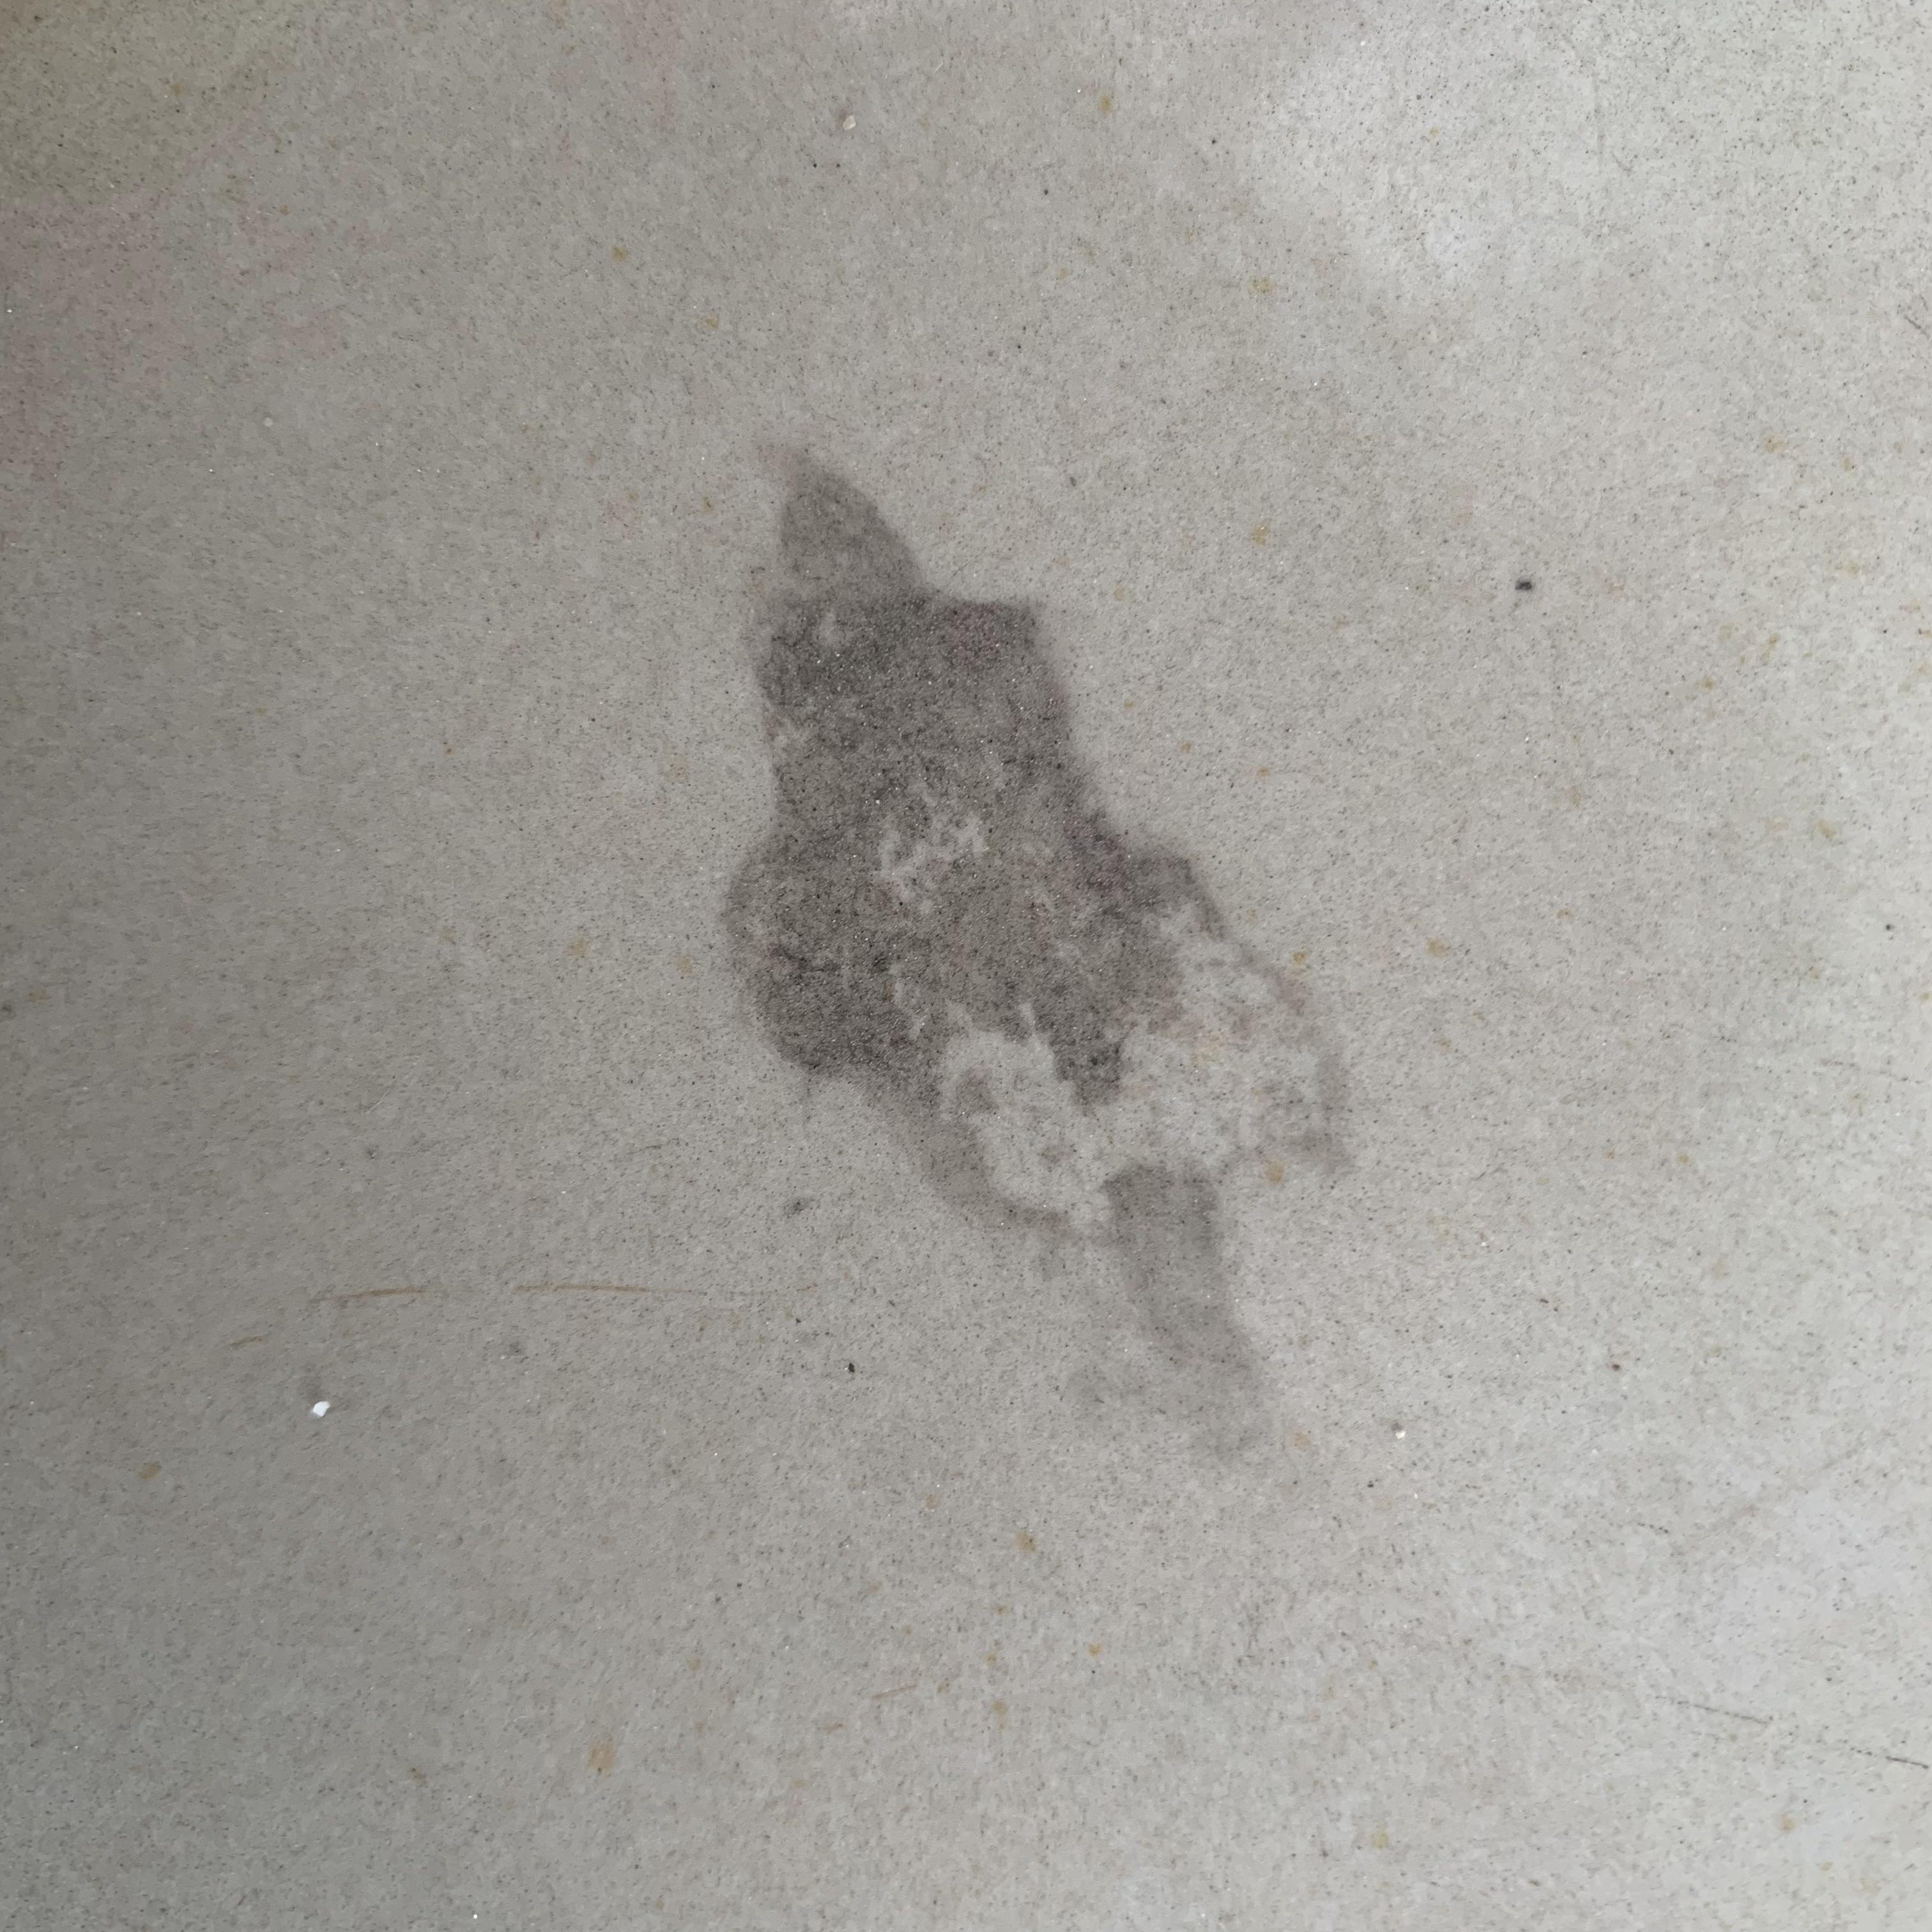grey spot: (718, 439, 1353, 1476)
